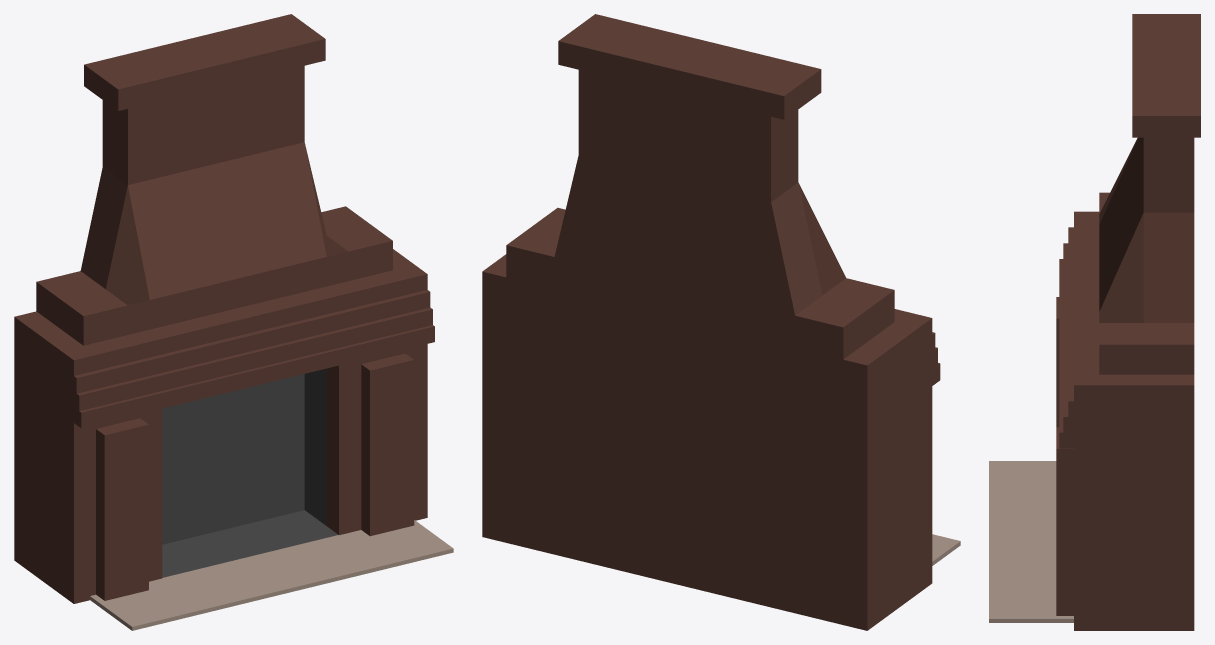
File: fireplace.fbx
3 renders of one model, left to right at view 1: azimuth 30°, elevation 25°; view 2: azimuth 150°, elevation 25°; view 3: azimuth 270°, elevation 25°, orthographic. The views are drawn at different scales.
Parts seen in each view (by area): view 1: pCube1, pCube2, pCube3; view 2: pCube1, pCube3; view 3: pCube1, pCube2, pCube3.
Part boxes in pixels (x1=…): pCube1: x1=14, y1=65, x2=434, y2=603; pCube2: x1=90, y1=510, x2=453, y2=630; pCube3: x1=84, y1=14, x2=325, y2=110; pCube1: x1=482, y1=70, x2=940, y2=630; pCube3: x1=558, y1=14, x2=821, y2=119; pCube1: x1=1056, y1=137, x2=1194, y2=630; pCube2: x1=989, y1=461, x2=1073, y2=622; pCube3: x1=1132, y1=14, x2=1200, y2=137.
Size of the model in its own units: 9.71 by 12.48 by 5.
